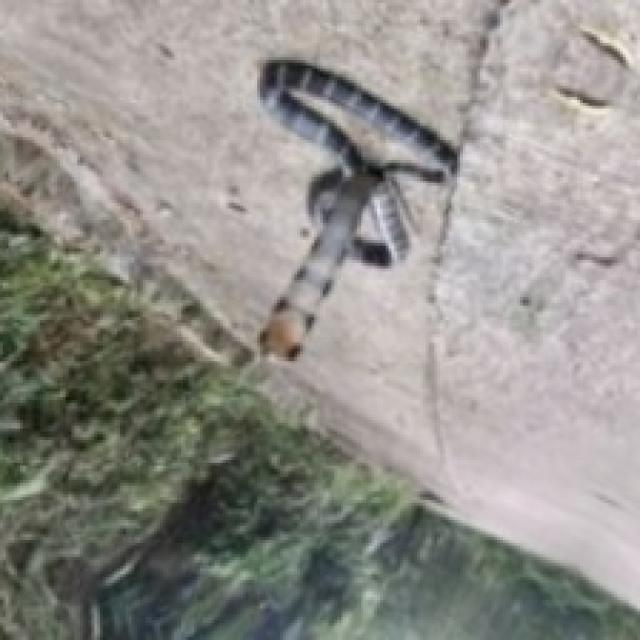king cobra: (260, 60, 454, 357)
